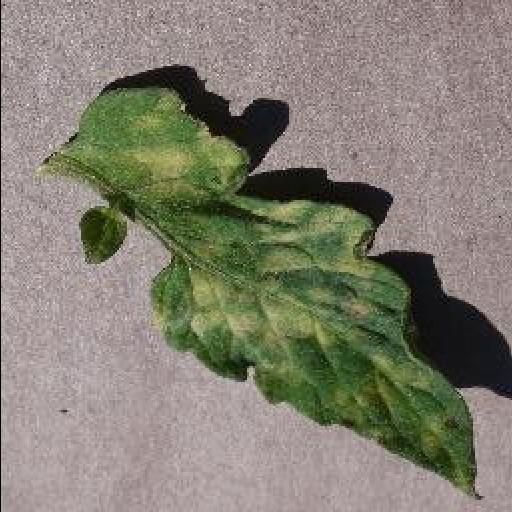disease_tomato: (70, 82, 480, 496)
